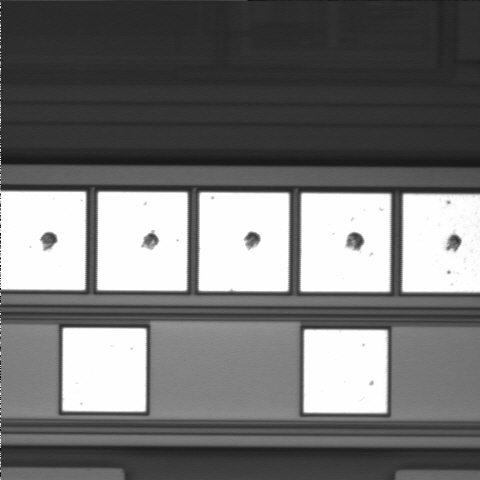pad: (97, 192, 187, 291), (301, 193, 391, 292), (199, 193, 289, 291), (63, 328, 146, 412), (304, 330, 387, 413)
